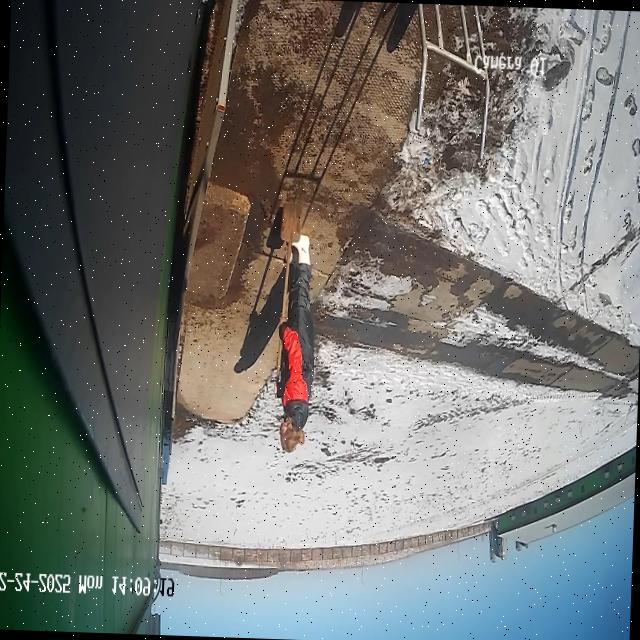Red uniform: (270, 230, 320, 455)
